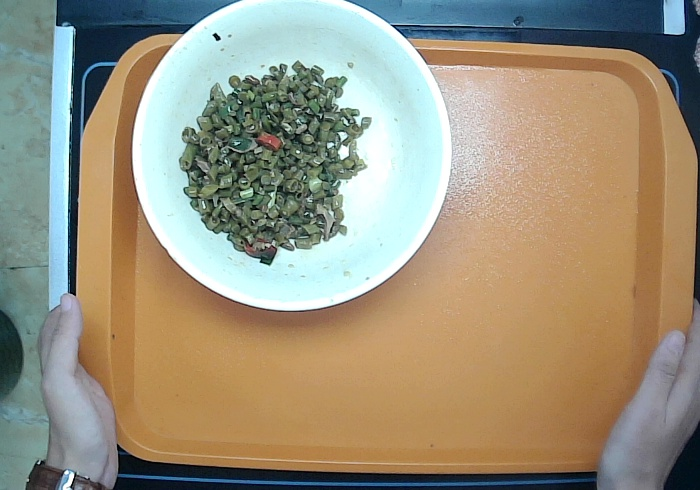ZNLD-Da_Tang_Wan: (127, 1, 450, 313)
